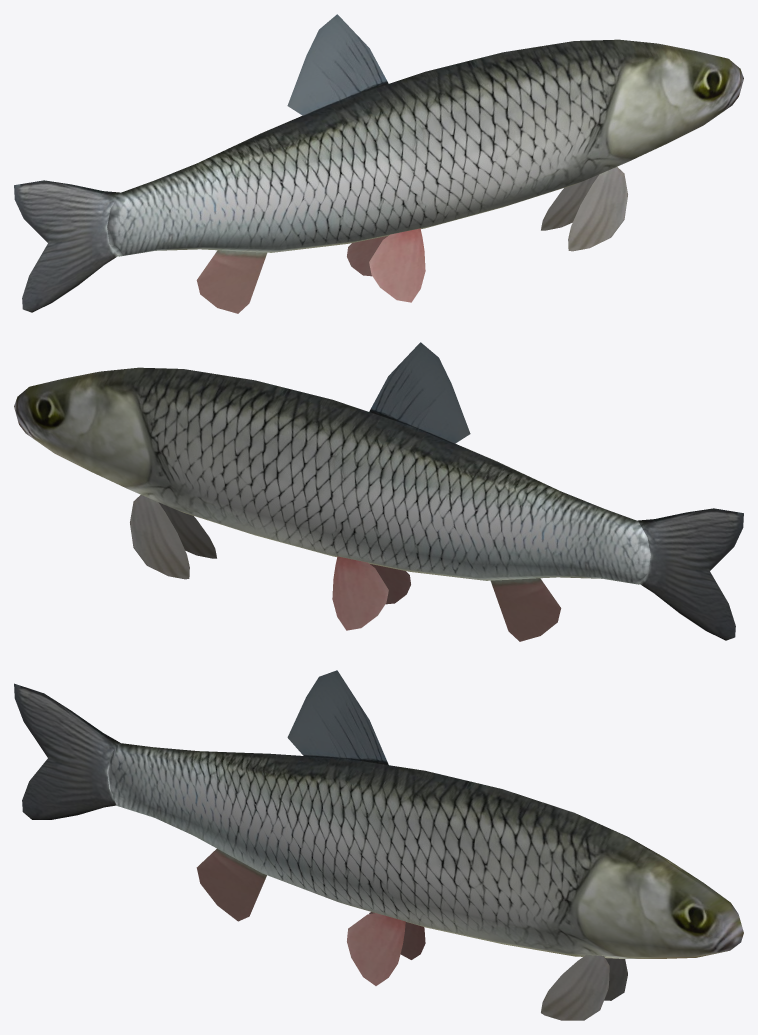
The model's file is Chub.glb.
The picture shows the model from 3 angles, top to bottom: view 1: azimuth 30°, elevation 25°; view 2: azimuth 150°, elevation 25°; view 3: azimuth 330°, elevation 25°; orthographic projection.
Visible parts, largest first — view 1: Chub; view 2: Chub; view 3: Chub.
Boxes of the visible parts, x1,y1,x2,y2 form: Chub: (14, 14, 743, 313); Chub: (14, 342, 743, 641); Chub: (14, 670, 743, 1020).
Bounding box in the file's own units: 2 × 0.7576 × 0.1871.
1 material, 1 textured.
